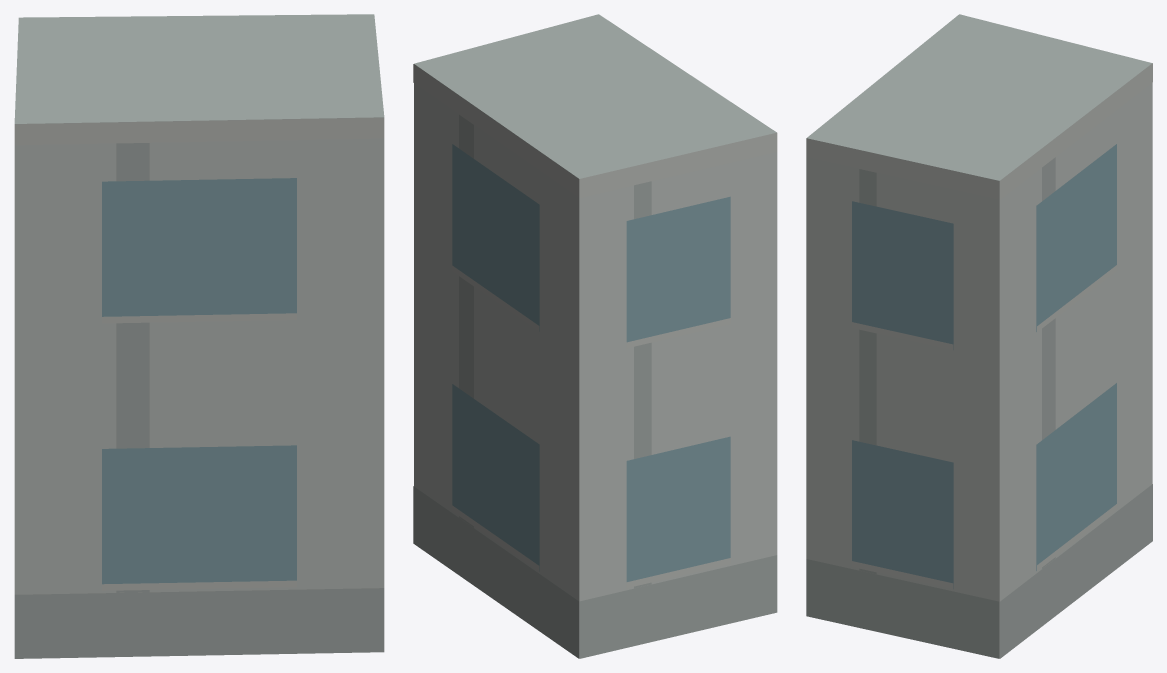
Rendered from survey-upis-32578495.glb.
The picture shows the model from 3 angles, left to right: view 1: azimuth 30°, elevation 25°; view 2: azimuth 150°, elevation 25°; view 3: azimuth 270°, elevation 25°; orthographic projection. The views are drawn at different scales.
Parts seen in each view (by area): view 1: survey-upis-32578495.tmp; view 2: survey-upis-32578495.tmp; view 3: survey-upis-32578495.tmp.
Part boxes in pixels (x1=…): survey-upis-32578495.tmp: x1=14, y1=14, x2=384, y2=658; survey-upis-32578495.tmp: x1=413, y1=14, x2=777, y2=658; survey-upis-32578495.tmp: x1=806, y1=14, x2=1152, y2=658.
Bounding box in the file's own units: 4.58 × 6.1 × 4.01.
